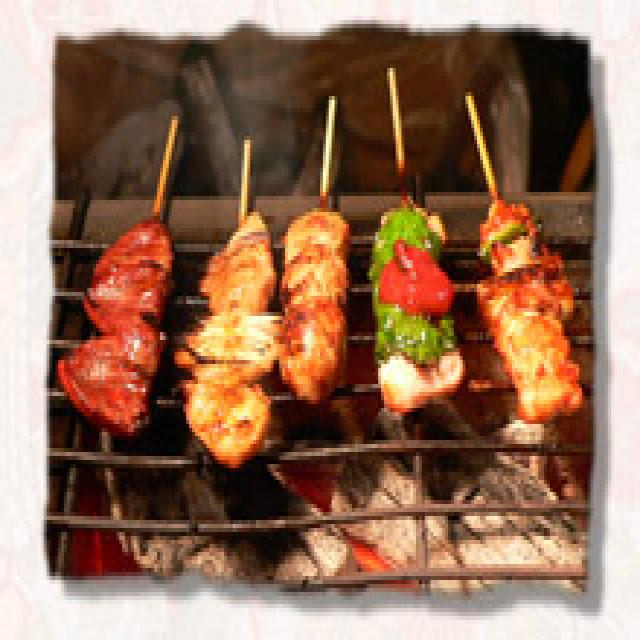烧串烤肉: (55, 88, 576, 476)
